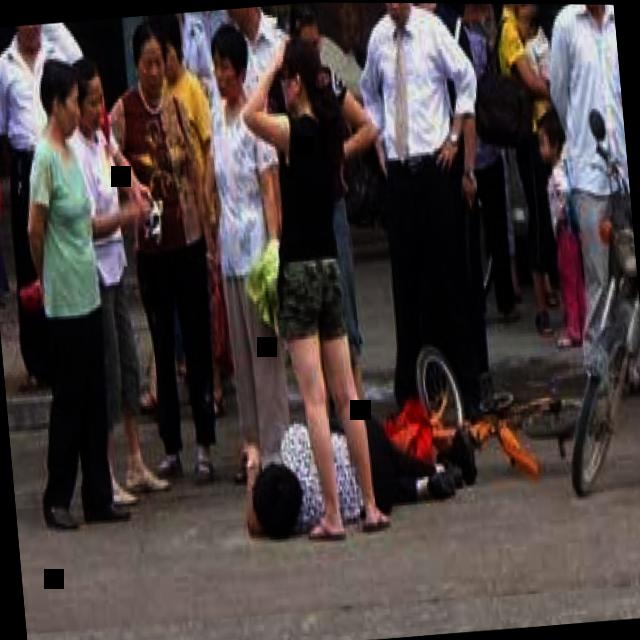Fall-Detected: (221, 362, 482, 528)
